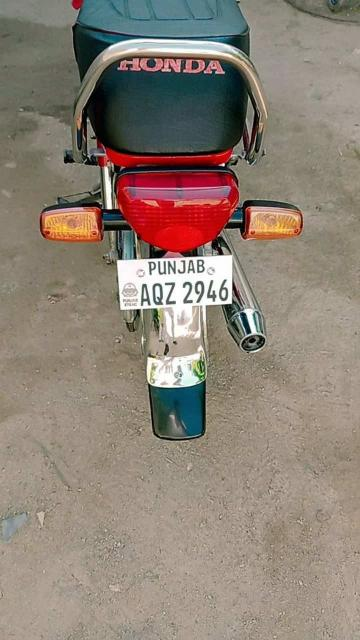plate: (115, 252, 236, 308)
